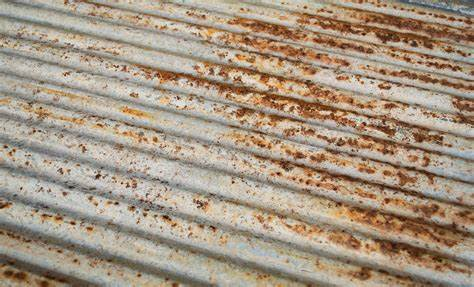rust: (309, 96, 443, 144), (363, 189, 461, 254), (236, 15, 327, 74)
